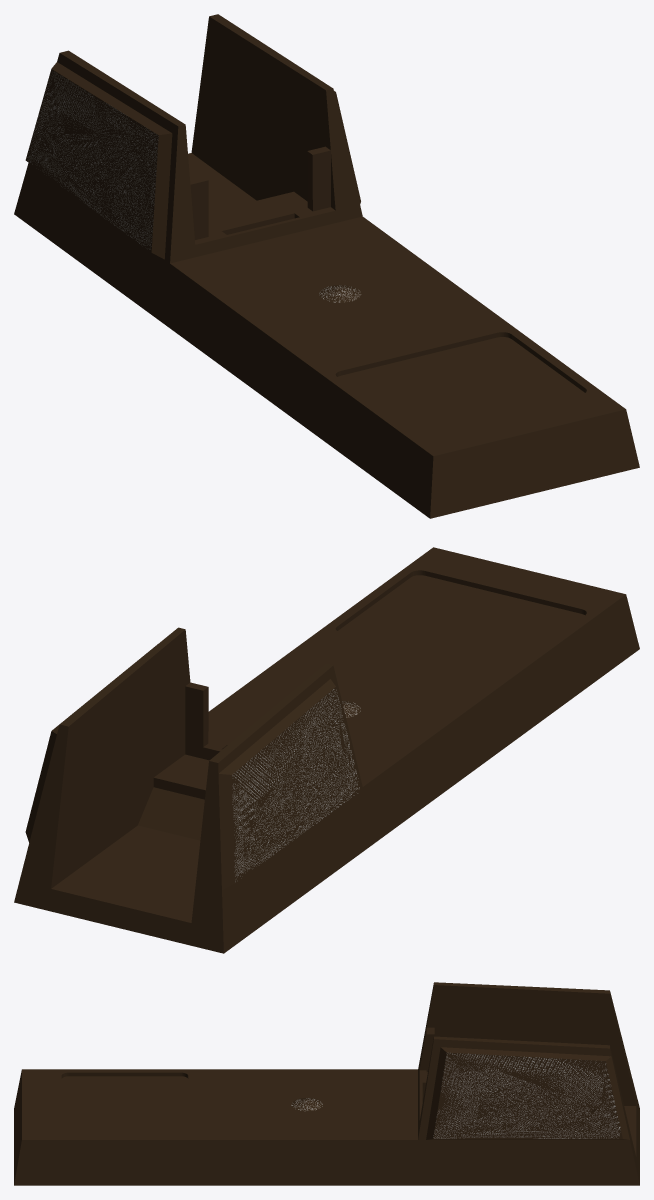
File: original-7.obj
3 renders of one model, top to bottom at view 1: azimuth 30°, elevation 25°; view 2: azimuth 150°, elevation 25°; view 3: azimuth 270°, elevation 25°, orthographic. The views are drawn at different scales.
Visible parts, largest first — view 1: mesh121/mesh121-geometry#mesh121-geometry; view 2: mesh121/mesh121-geometry#mesh121-geometry; view 3: mesh121/mesh121-geometry#mesh121-geometry.
Boxes of the visible parts, bbox=[...] form: mesh121/mesh121-geometry#mesh121-geometry: bbox=[14, 14, 639, 518]; mesh121/mesh121-geometry#mesh121-geometry: bbox=[14, 547, 639, 953]; mesh121/mesh121-geometry#mesh121-geometry: bbox=[14, 982, 639, 1185].
Size of the model in its own units: 0.5456 by 0.4507 by 1.87.
